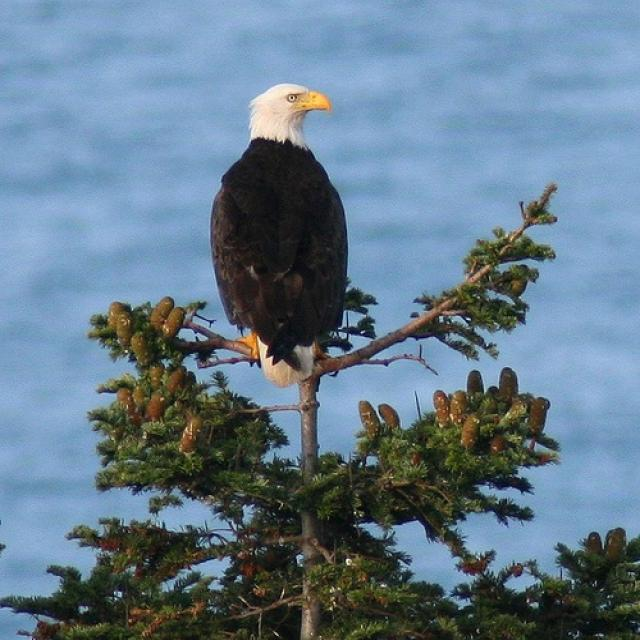bird: (206, 77, 356, 389)
